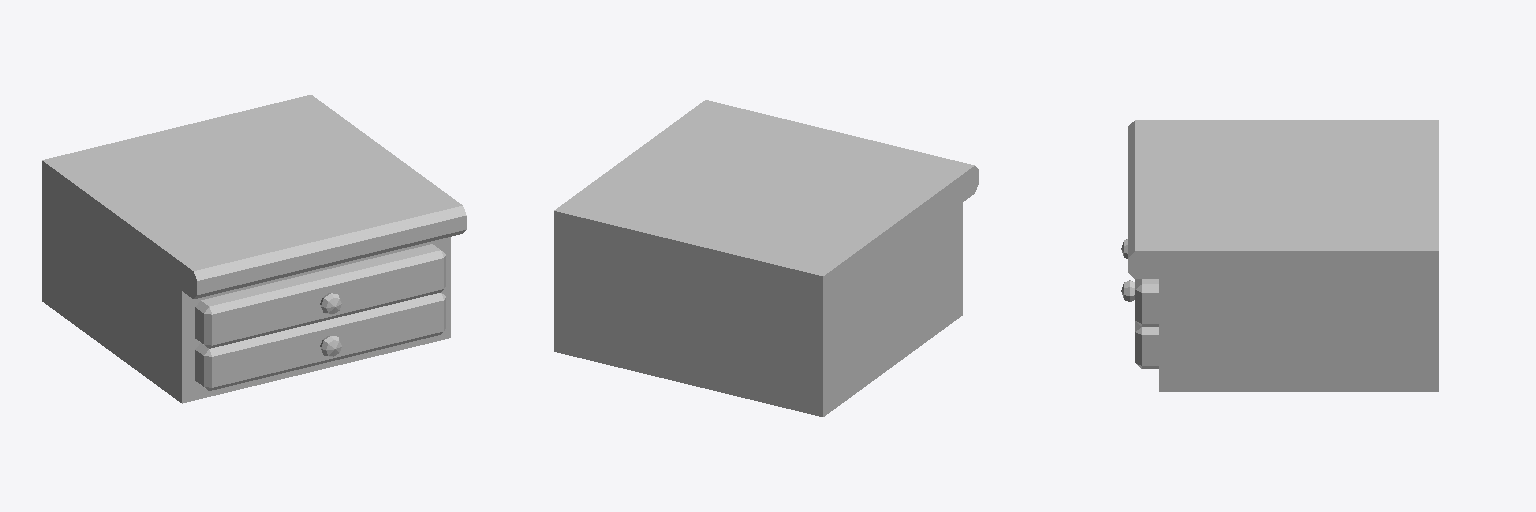
The model's file is kitchencounter_straight_A.obj.
The picture shows the model from 3 angles: view 1: azimuth 30°, elevation 25°; view 2: azimuth 150°, elevation 25°; view 3: azimuth 270°, elevation 25°; orthographic projection.
Visible parts, largest first — view 1: kitchencounter_straight_A_Cube.896; view 2: kitchencounter_straight_A_Cube.896; view 3: kitchencounter_straight_A_Cube.896.
Part boxes in pixels (x1,y1,x2,y2): kitchencounter_straight_A_Cube.896: (42, 95, 466, 403); kitchencounter_straight_A_Cube.896: (554, 100, 978, 416); kitchencounter_straight_A_Cube.896: (1121, 120, 1438, 391).
Bounding box in the file's own units: 2 × 1 × 2.04.